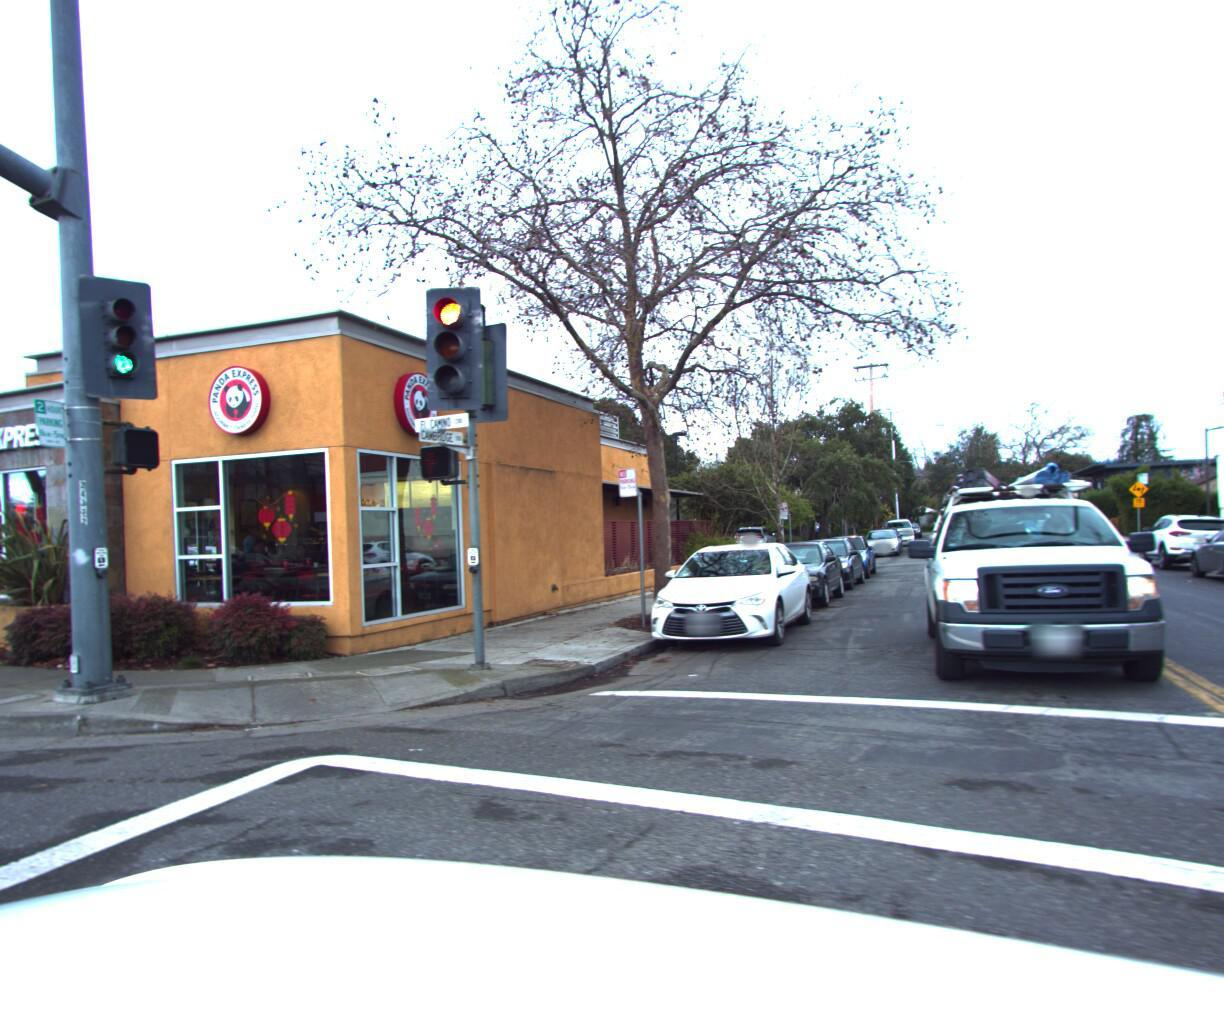car: (900, 434, 1199, 733), (624, 533, 820, 654), (729, 532, 848, 608), (776, 528, 866, 596), (1136, 506, 1224, 567), (809, 527, 873, 576), (1185, 514, 1224, 586), (855, 521, 904, 554), (730, 518, 780, 550), (881, 513, 914, 539)
